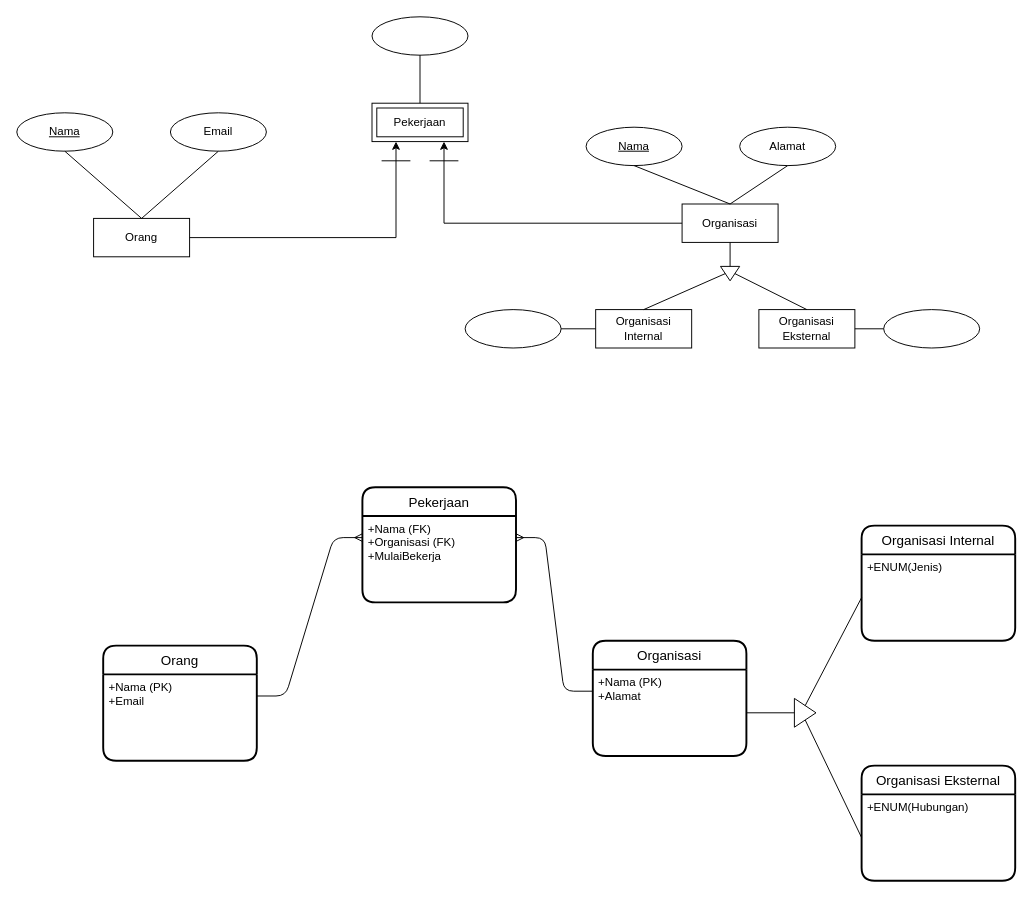
This 1033x899 diagram has some shape labels left out. Each missing label, with the box of its shape:
Hubungan: (883, 309, 980, 348)
Jenis: (464, 309, 561, 348)
Mulai Bekerja: (371, 16, 468, 55)
